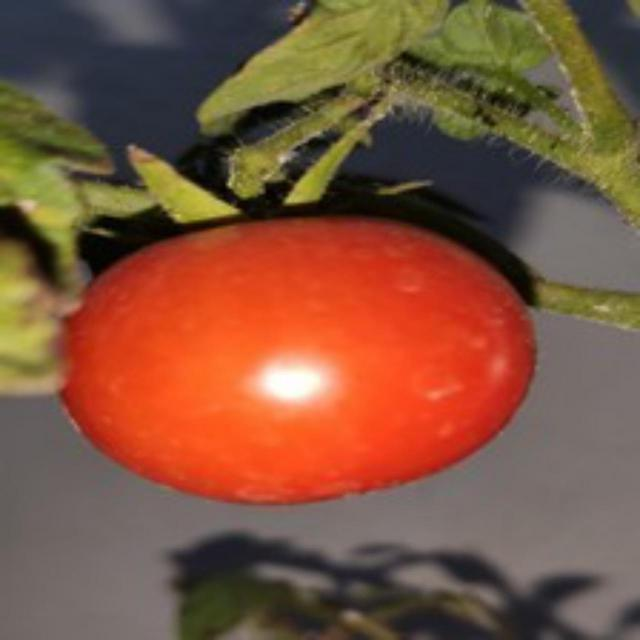tomato: (56, 222, 547, 506)
